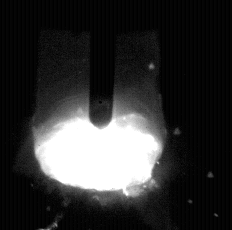arame: (89, 0, 115, 129)
poca: (33, 0, 165, 230)
